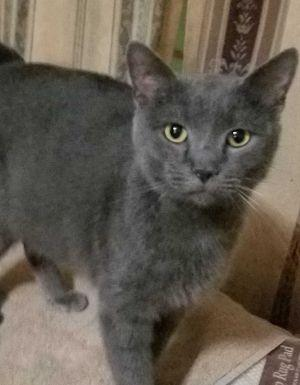rblue: (111, 33, 299, 218)
